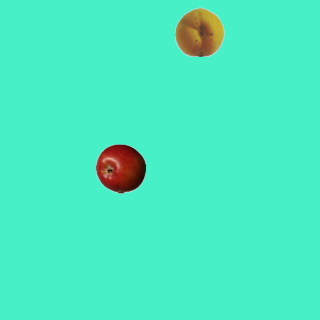Apple Braeburn: (95, 143, 145, 193)
Peach 2: (174, 6, 224, 56)
